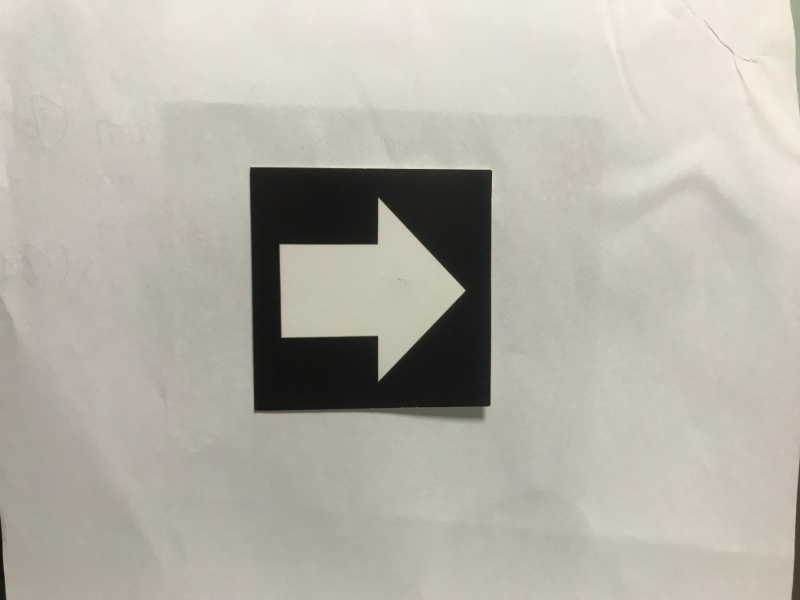UA-1: (260, 174, 486, 403)
